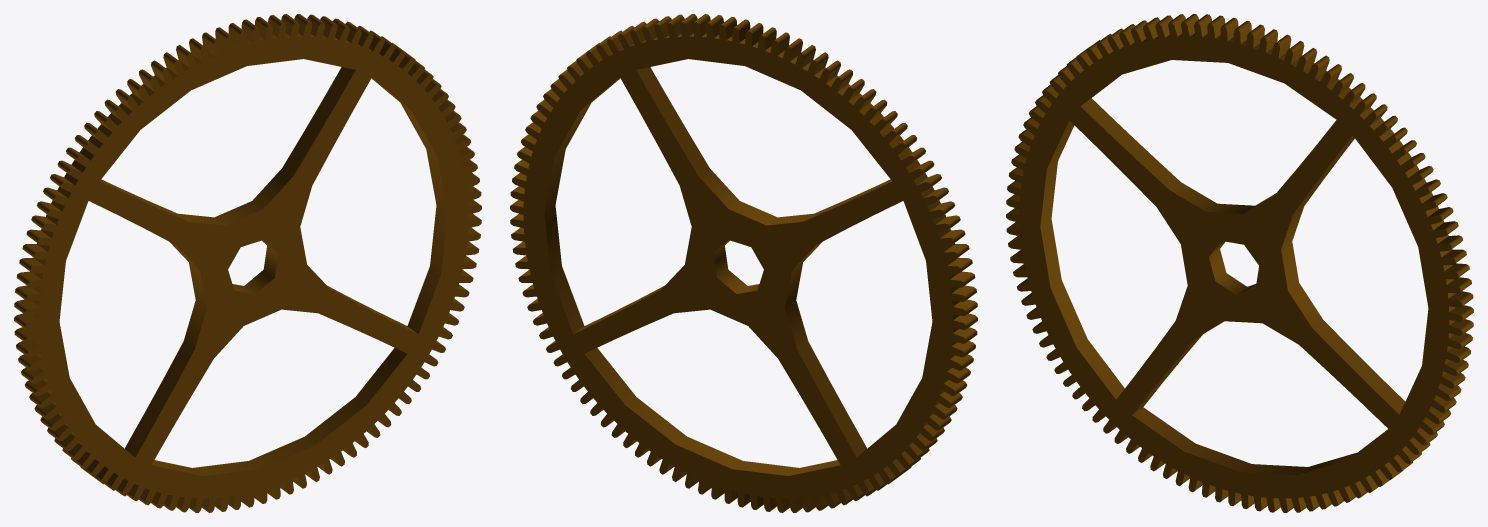
File: Roue dente_Roue de Temps.obj
The picture shows the model from 3 angles, left to right: view 1: azimuth 30°, elevation 25°; view 2: azimuth 150°, elevation 25°; view 3: azimuth 330°, elevation 25°; orthographic projection.
Parts seen in each view (by area): view 1: Face_1, Face_442, Face_438, Face_427, Face_433, Face_432, Face_428, Face_443; view 2: Face_2, Face_442, Face_438, Face_427, Face_433, Face_432, Face_428, Face_443; view 3: Face_1, Face_430, Face_442, Face_431, Face_437, Face_436, Face_432, Face_443.
Boxes of the visible parts, x1,y1,x2,y2 form: Face_1: (25, 22, 481, 512); Face_442: (151, 348, 407, 475); Face_438: (371, 78, 447, 333); Face_427: (125, 341, 194, 457); Face_433: (282, 67, 355, 176); Face_432: (178, 168, 292, 225); Face_428: (170, 242, 206, 349); Face_443: (232, 240, 278, 293); Face_2: (510, 22, 966, 512); Face_442: (584, 348, 840, 475); Face_438: (544, 78, 620, 333); Face_427: (797, 341, 866, 457); Face_433: (636, 67, 709, 176); Face_432: (699, 168, 813, 225); Face_428: (785, 242, 821, 349); Face_443: (713, 240, 759, 293); Face_1: (1006, 22, 1462, 512); Face_430: (1040, 120, 1124, 399); Face_442: (1132, 407, 1356, 475); Face_431: (1080, 98, 1180, 189); Face_437: (1312, 320, 1405, 414); Face_436: (1281, 206, 1322, 327); Face_432: (1170, 182, 1275, 213); Face_443: (1209, 241, 1256, 294).
Size of the model in its own units: 0.0706 by 0.0706 by 0.003.
